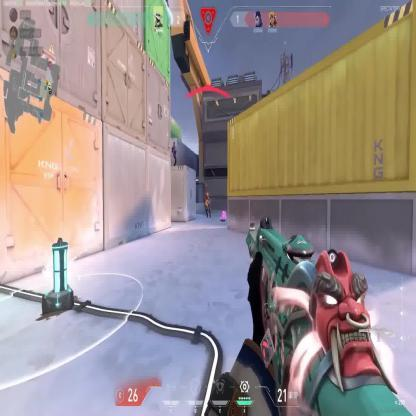enemy: (204, 191, 212, 217), (171, 140, 178, 168)
enemy_head: (172, 141, 176, 148), (206, 192, 209, 198)
